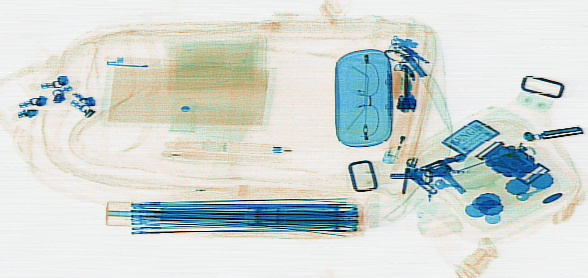lighter: (380, 105, 416, 164)
